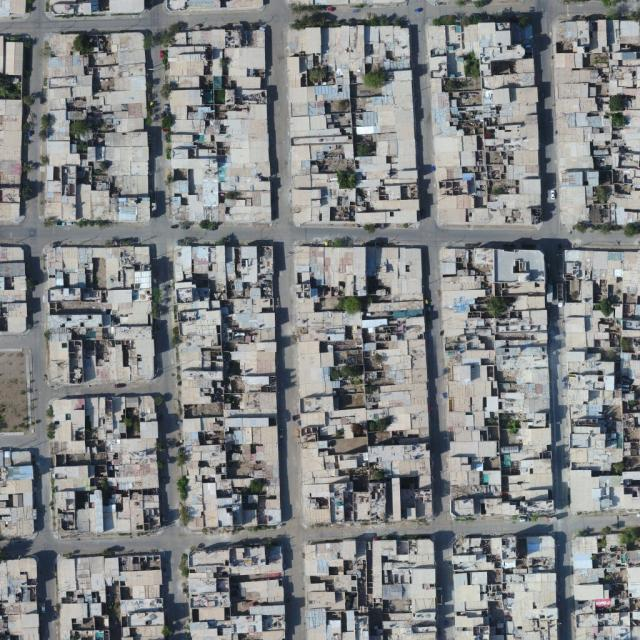building: (295, 242, 433, 527), (440, 244, 555, 519), (173, 243, 281, 531), (286, 22, 420, 228), (427, 19, 548, 231), (167, 24, 271, 224), (41, 32, 149, 223), (41, 242, 156, 386), (51, 395, 159, 536), (451, 537, 559, 640), (55, 553, 165, 640), (187, 547, 285, 640), (0, 558, 39, 640), (0, 448, 34, 538), (0, 98, 22, 223), (0, 246, 28, 333), (166, 0, 264, 11), (287, 0, 408, 5), (0, 0, 25, 16)
metalled_road: (35, 27, 164, 540), (164, 24, 273, 226), (450, 222, 640, 251), (554, 531, 577, 640), (434, 532, 456, 640)
